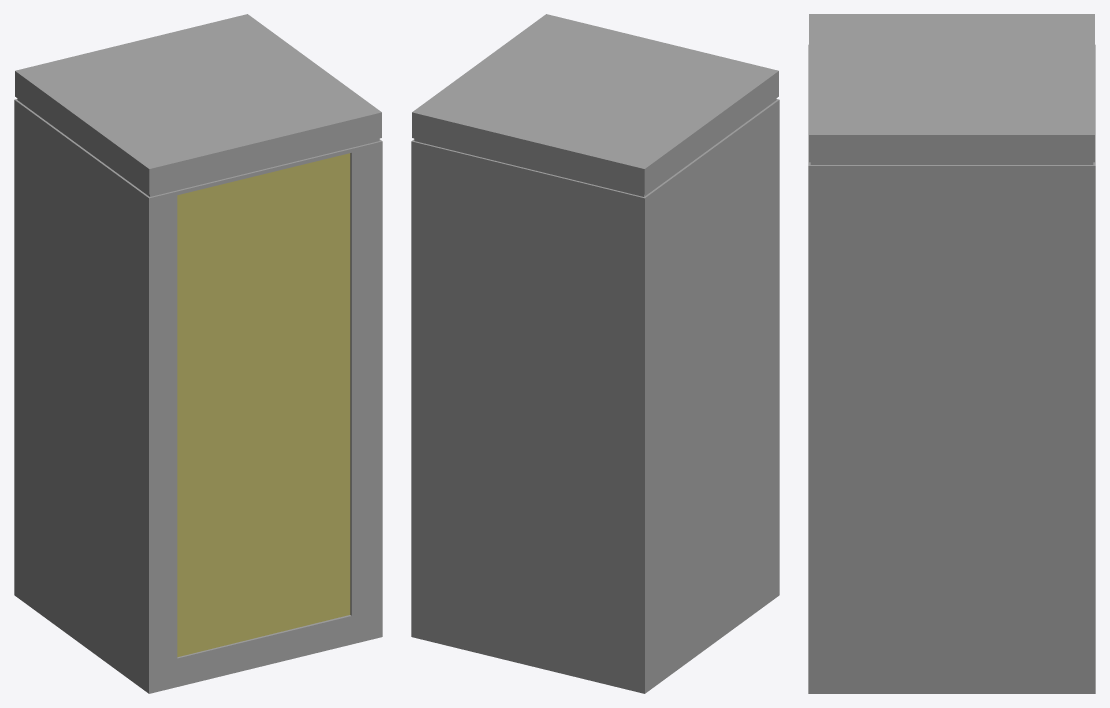
The model's file is Server Towers.fbx.
3 views of the same model, side by side, from view 1: azimuth 30°, elevation 25°; view 2: azimuth 150°, elevation 25°; view 3: azimuth 270°, elevation 25° (orthographic). The views are drawn at different scales.
Visible parts, largest first — view 1: base, glass; view 2: base; view 3: base.
Boxes of the visible parts, box(x1,y1,x2,y2) form: base: box(14, 14, 382, 693); glass: box(177, 153, 350, 657); base: box(411, 14, 779, 693); base: box(808, 14, 1095, 693).
Size of the model in its own units: 2.3 by 4.94 by 2.3.
